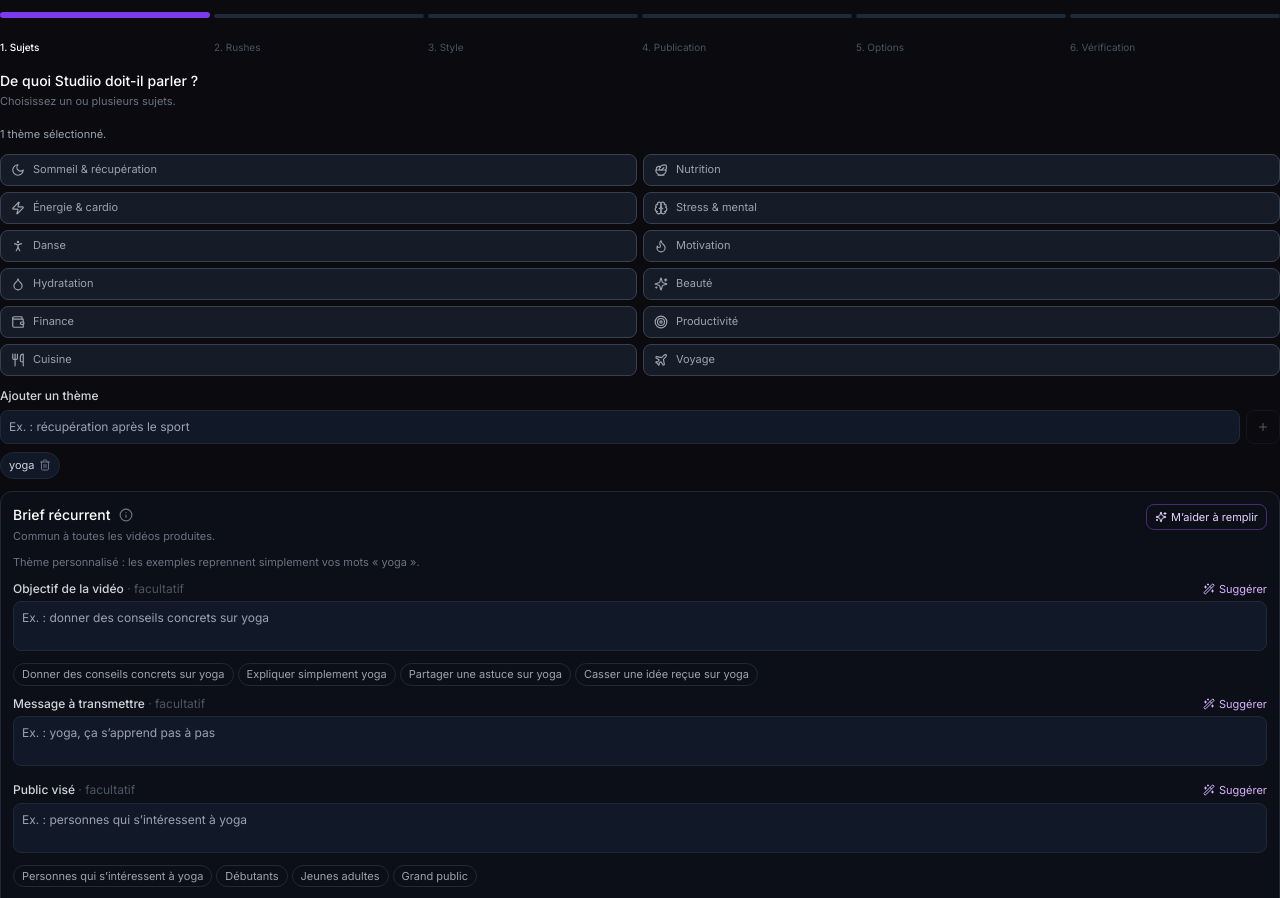
Scenario: Persistance des sources › « Mes rushes » décoché → designStyle.sources.actives.rushes = false, le reste préservé
This screenshot has width=1280, height=898.
What coordinates should you click on to do the following:
click the button named "Rushes"
I would click on:
 (319, 16)
Its box is [214, 14, 424, 18].
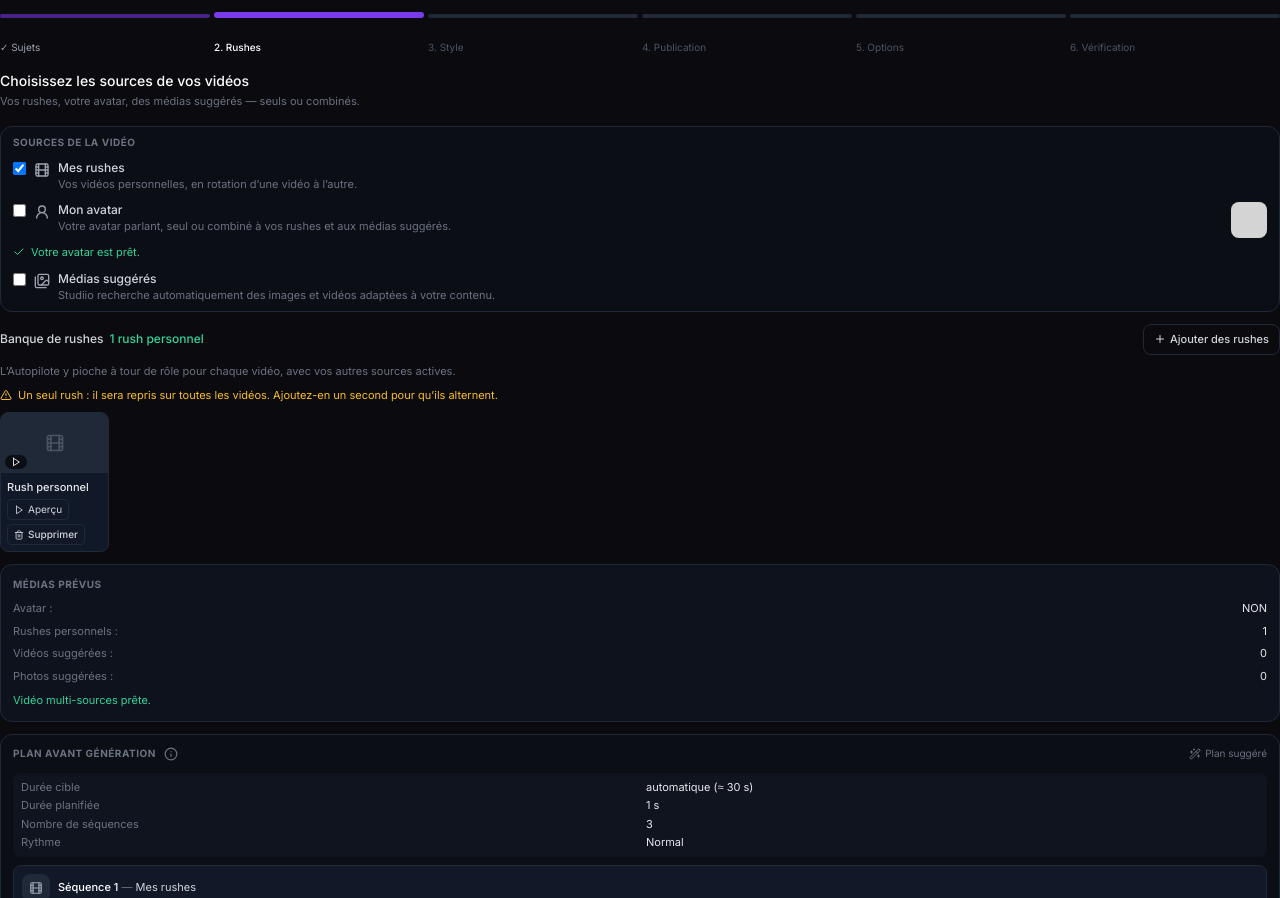
Result: the element that starts with "Sources de la vidéo" is shown at [0, 126, 1279, 312]
What coordinates should you click on to do the following:
click the 1st checkbox
I would click on:
 (20, 168)
Its box is [13, 162, 26, 174].
(page scrolled)
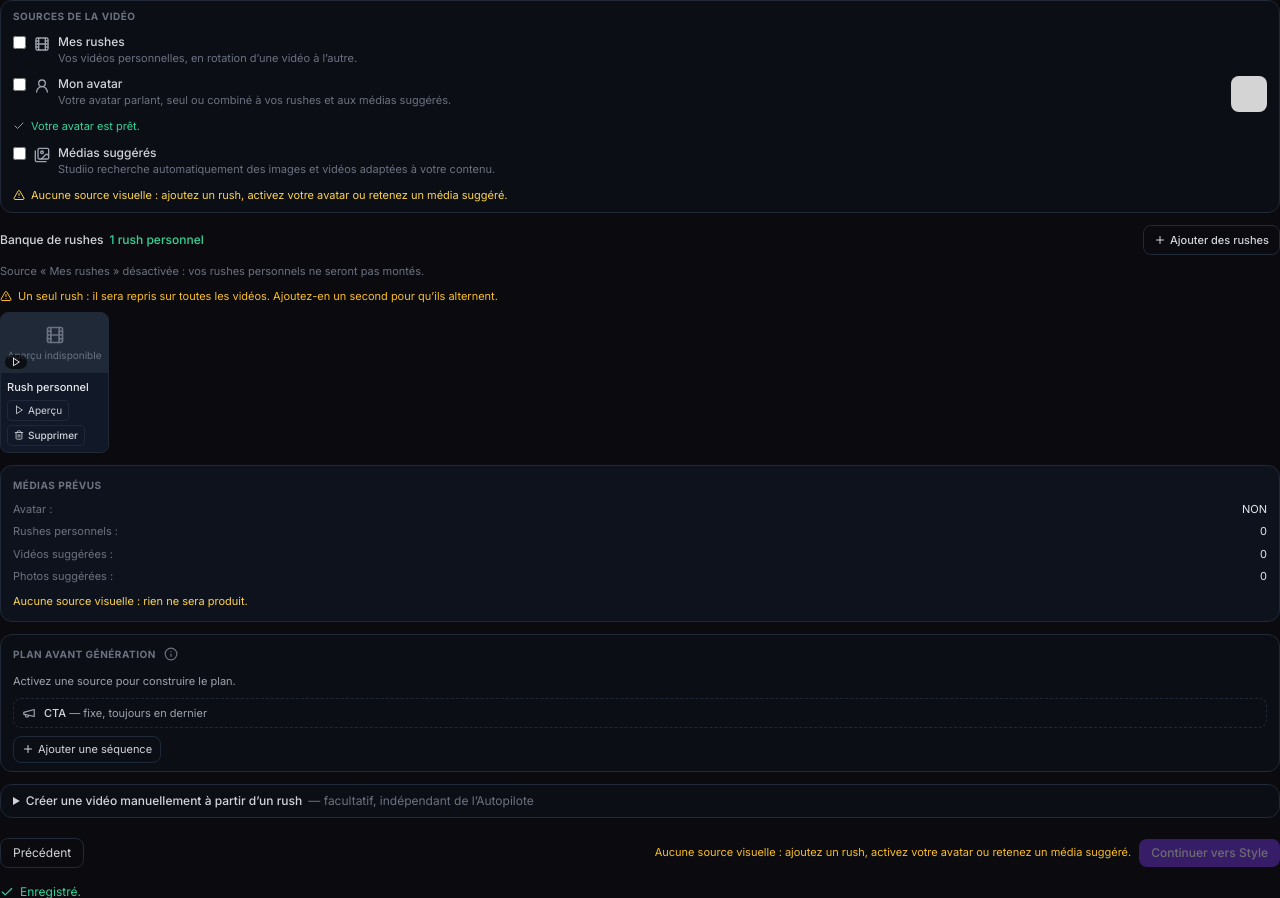
Result: the button "Continuer vers Style" is disabled at [1139, 839, 1279, 867]
